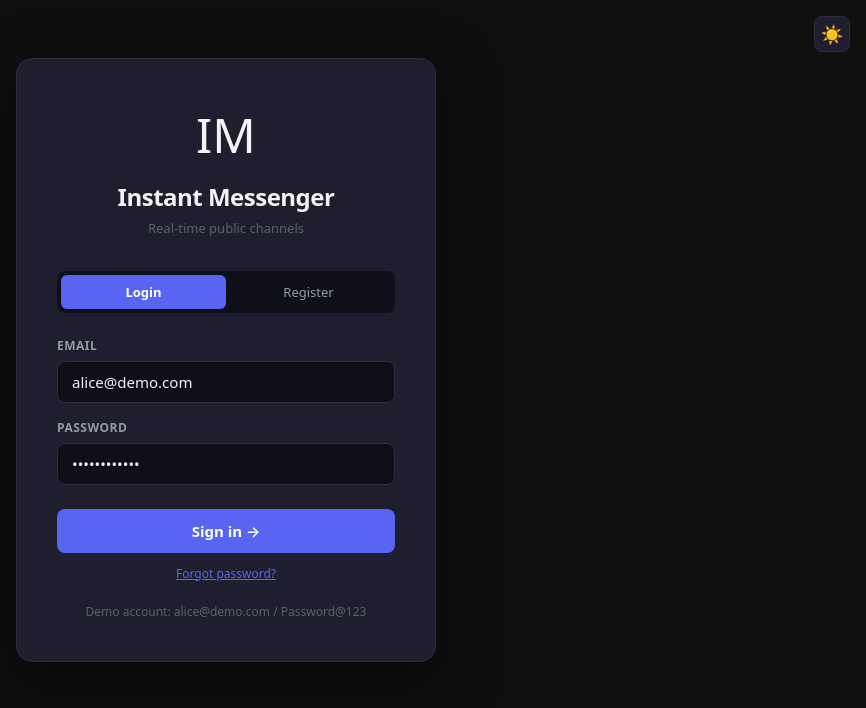
Test: LoginPage › clears error message when user starts typing
This screenshot has width=866, height=708.
Step 1. Submit the form "Email Password Sign in →", box [57,337,395,553]
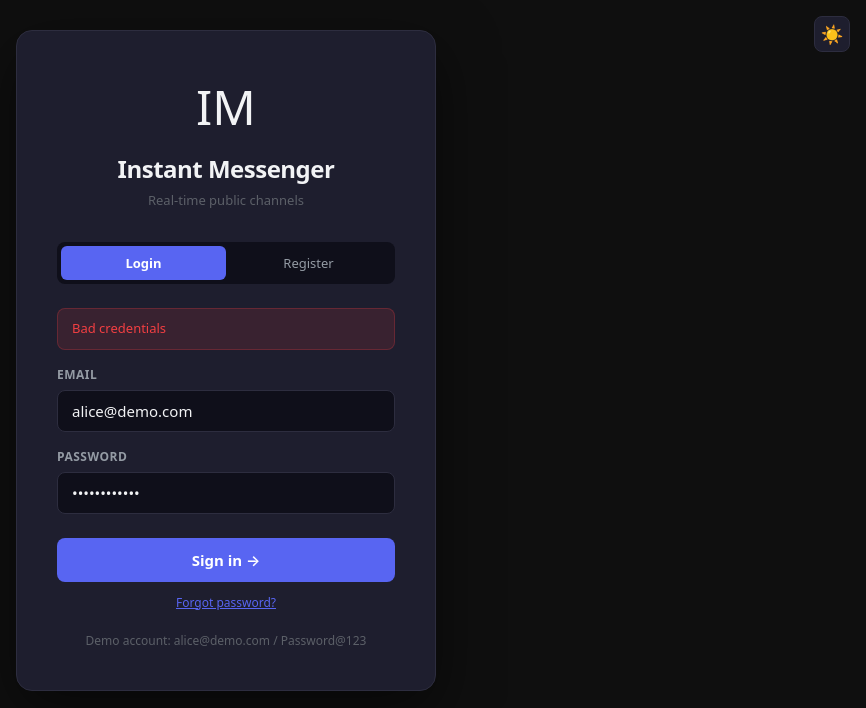
Expected: the text "Bad credentials" is shown, [57,308,395,350]
Step 2. Type "x" into the field labelled "Email" → [226, 410], box [57,390,395,432]
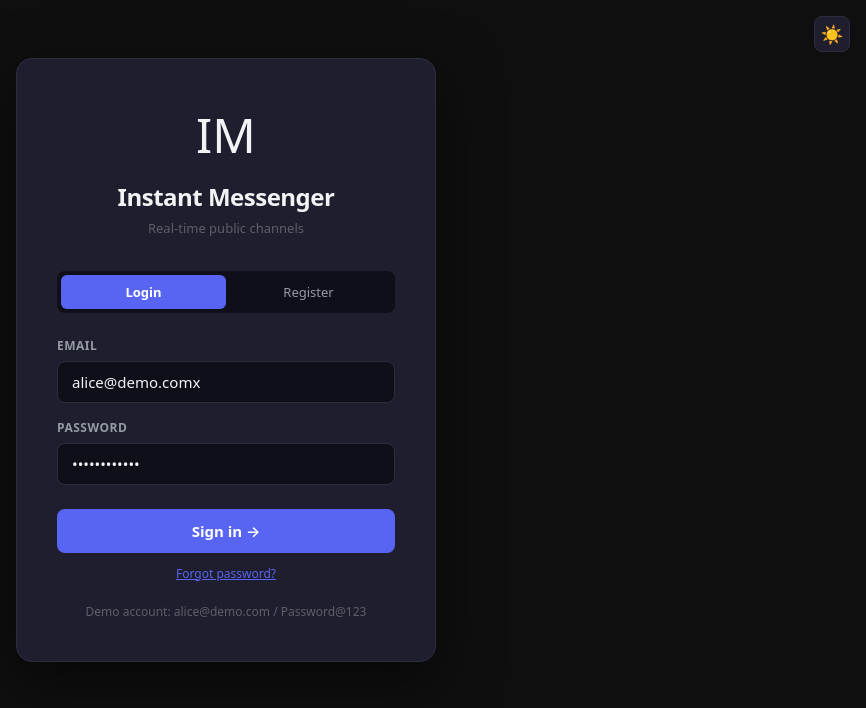
Expected: the text "Bad credentials" is gone
